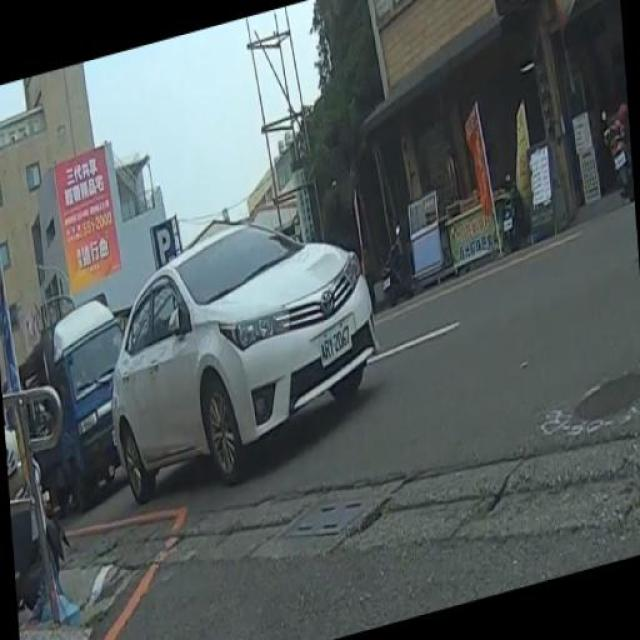Legalparking: (86, 155, 440, 527)
